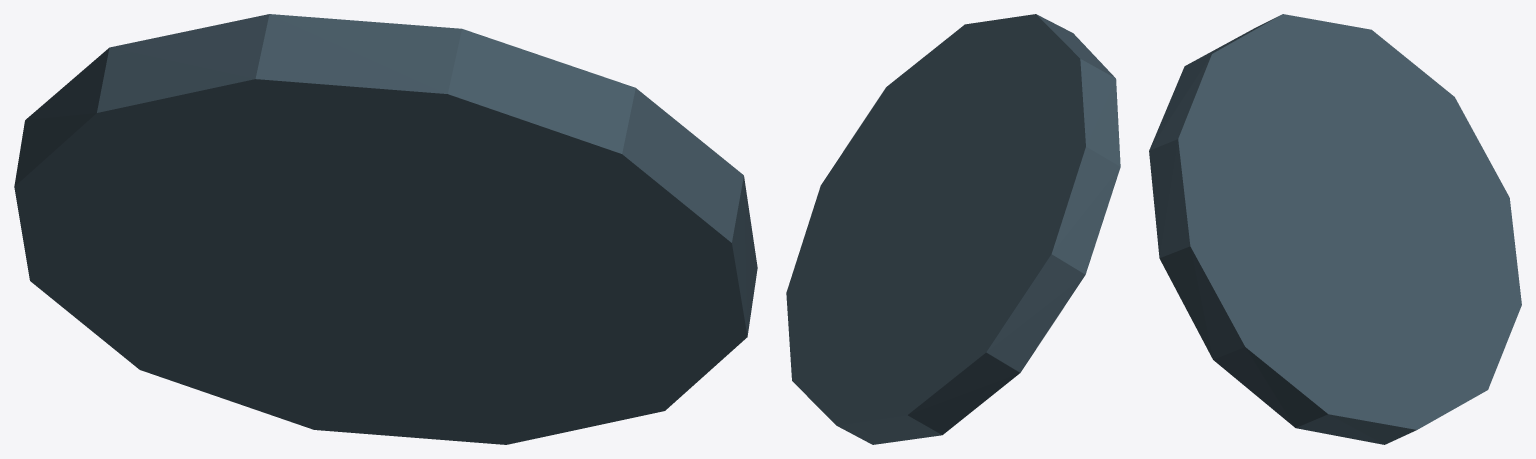
Rendered from astronaut_base_group989277149_lev4.glb.
3 renders of one model, left to right at view 1: azimuth 30°, elevation 25°; view 2: azimuth 150°, elevation 25°; view 3: azimuth 270°, elevation 25°, orthographic. The views are drawn at different scales.
Parts seen in each view (by area): view 1: astronaut_base_group989277149_lev4; view 2: astronaut_base_group989277149_lev4; view 3: astronaut_base_group989277149_lev4.
Boxes of the visible parts, <box> form: astronaut_base_group989277149_lev4: <box>14,14,757,444</box>; astronaut_base_group989277149_lev4: <box>786,14,1120,444</box>; astronaut_base_group989277149_lev4: <box>1149,14,1521,444</box>.
Bounding box in the file's own units: 0.2634 × 0.2451 × 0.2452.
